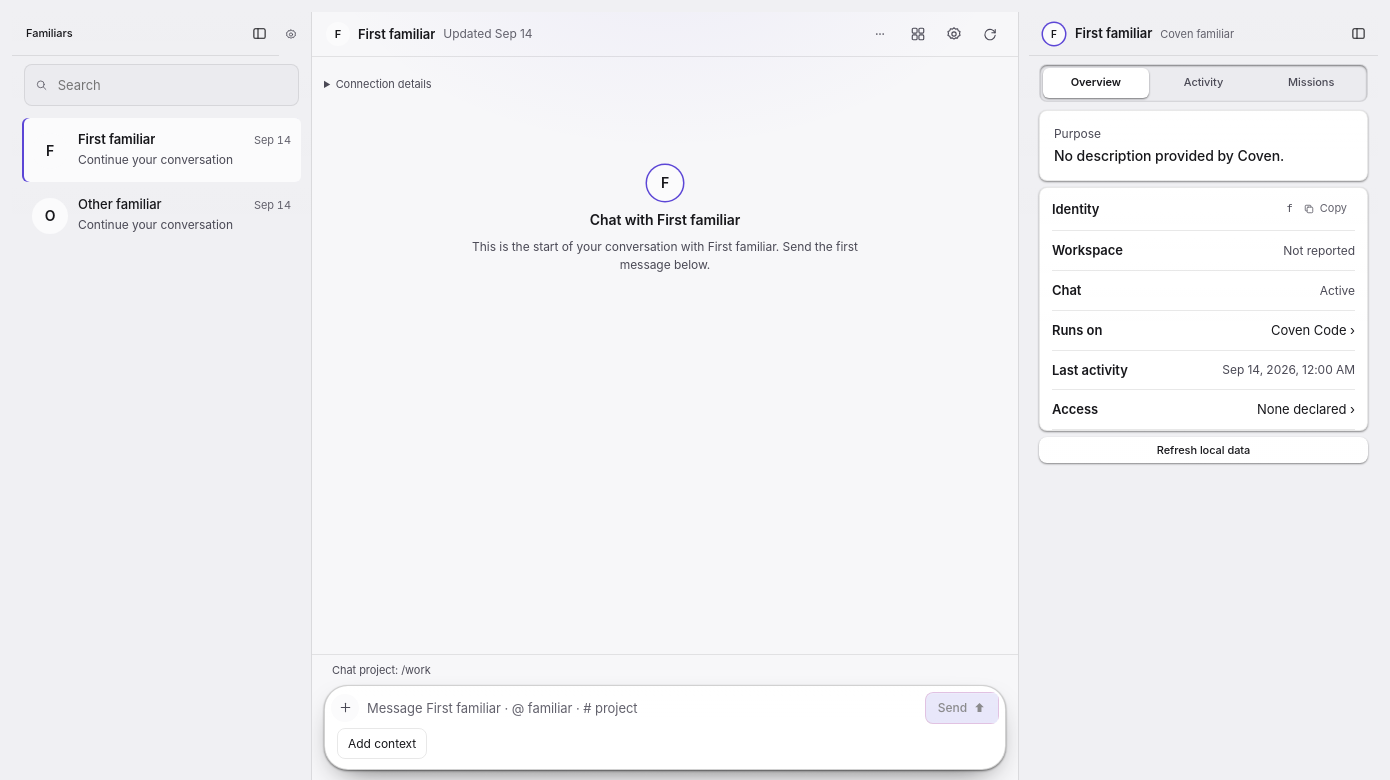
Test: canonical familiar controller › does not restore a failed message over a draft the user deliberately cleared
In the text box: (642, 708) [363, 692, 921, 724], type "submitted"
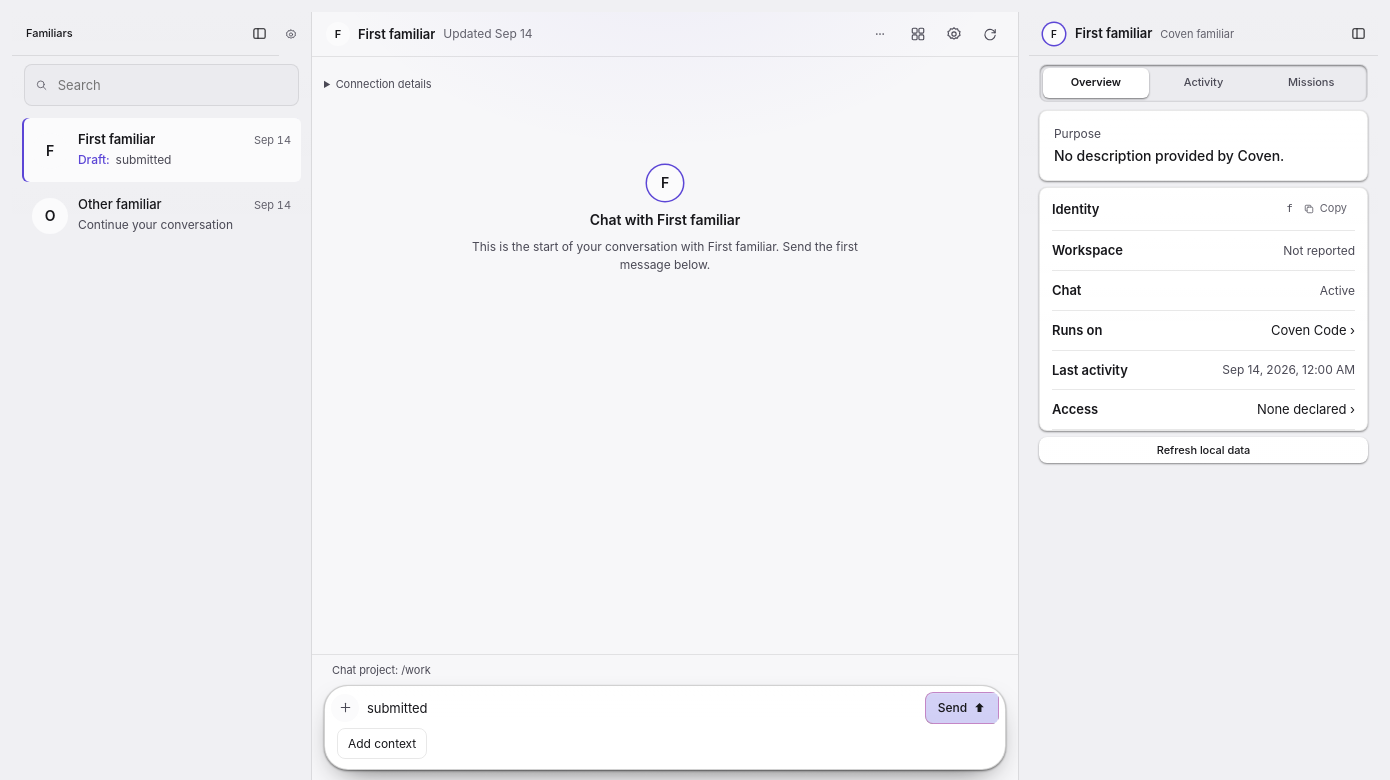
Click the button "Send": (962, 708) [925, 692, 999, 724]
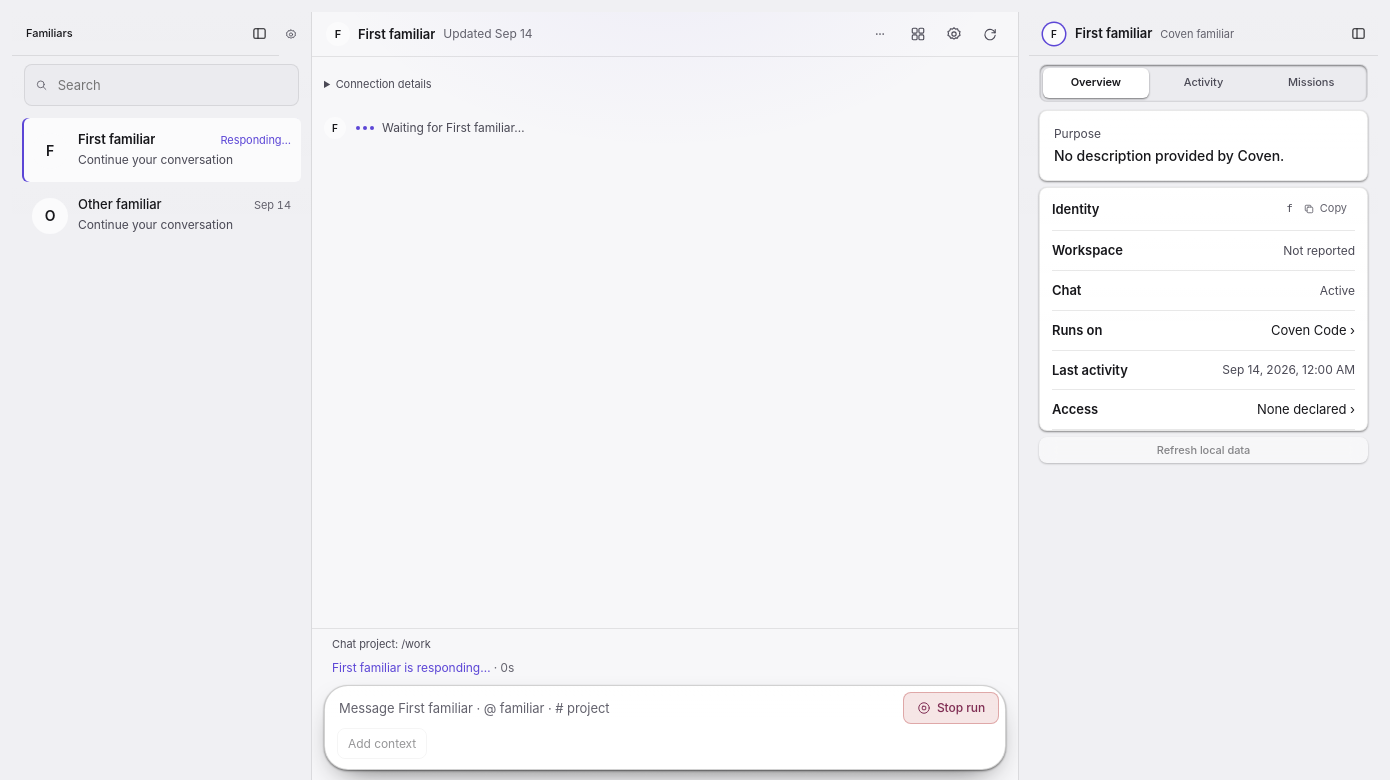
In the text box: (617, 708) [335, 692, 899, 724], type "replacement"
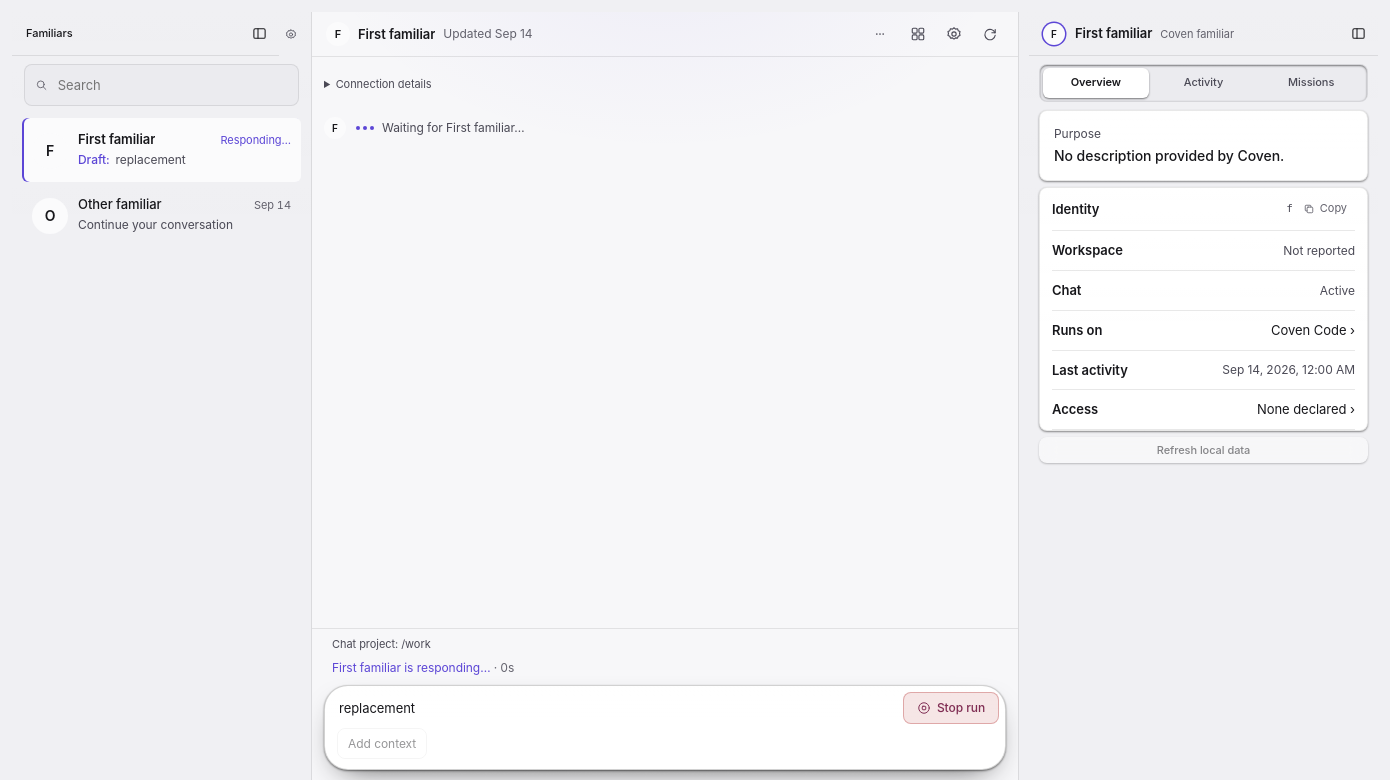
Clear the text box: (617, 708) [335, 692, 899, 724]
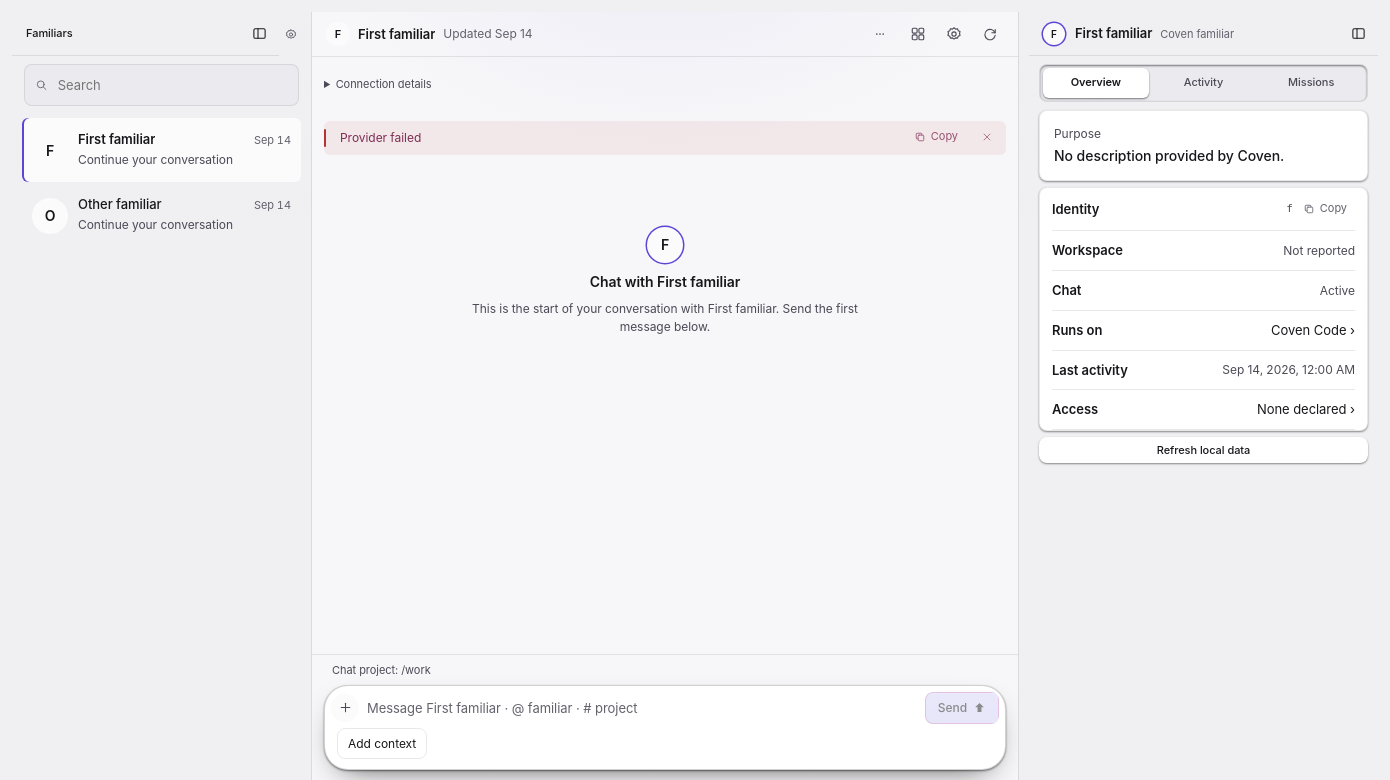
Expected: the message shows "Provider failed", [340, 130, 421, 145]
